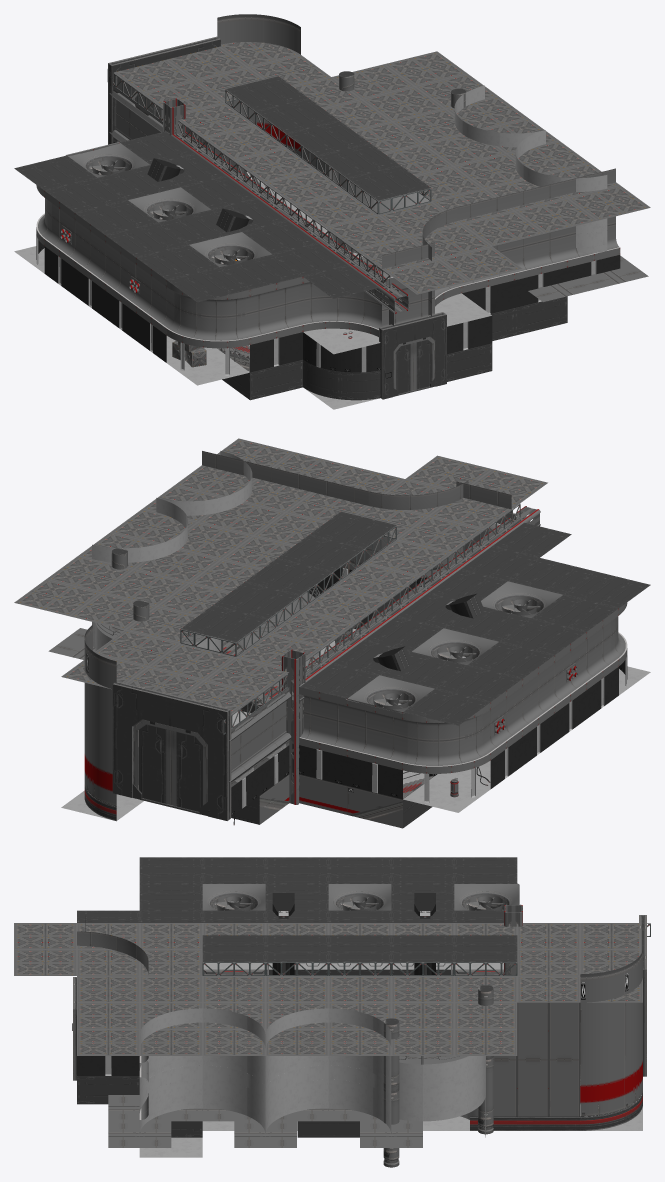
The model's file is demo-layout-fans.glb.
3 views of the same model, one above another, from view 1: azimuth 30°, elevation 25°; view 2: azimuth 150°, elevation 25°; view 3: azimuth 270°, elevation 25° (orthographic). The views are drawn at different scales.
Visible parts, largest first — view 1: Door_Frame_Square.001, ShortWall_Band2_Corner_Outer, TopPlastic_Corner_Round_Outer, TopPlastic_Corner_Round_Inner.002, ShortWall_DarkMetal2_Corner_Inner, Door_Frame_Square, TopAstra_Curve_Round_Outer, TopPlastic_Straight.012, TopPlastic_Straight.018, Platform_DarkPlates.004, Platform_DarkPlates.005, Platform_DarkPlates.007 (+105 smaller); view 2: Door_Frame_Square, ShortWall_Band2_Corner_Outer, TopPlastic_Corner_Round_Inner, Door_DarkMetal.001, Door_DarkMetal, TopPlastic_Straight.008, Platform_DarkPlates.007, Platform_X.003, Platform_DarkPlates.005, Platform_X.009, Platform_DarkPlates.023, Platform_X.031 (+106 smaller); view 3: ShortWall_Band2_Corner_Outer, ShortWall_MetalPlates_Straight.001, ShortWall_MetalPlates_Straight, ShortWall_WhitePlate2_Corner_Outer.025, ShortWall_WhitePlate2_Corner_Outer.018, ShortWall_WhitePlate2_Corner_Outer.019, Platform_X.030, ShortWall_WhitePlate2_Corner_Outer.024, Platform_X.024, ShortWall_WhitePlate2_Corner_Outer.008, Platform_DarkPlates.002, Platform_DarkPlates.003 (+95 smaller).
Boxes of the visible parts, x1,y1,x2,y2 form: Door_Frame_Square.001: (379,312,446,399); ShortWall_Band2_Corner_Outer: (217,14,300,156); TopPlastic_Corner_Round_Outer: (298,297,393,336); TopPlastic_Corner_Round_Inner.002: (166,306,249,348); ShortWall_DarkMetal2_Corner_Inner: (303,360,380,400); Door_Frame_Square: (108,36,220,146); TopAstra_Curve_Round_Outer: (303,332,380,372); TopPlastic_Straight.012: (245,301,302,344); TopPlastic_Straight.018: (510,237,567,280); Platform_DarkPlates.004: (75,200,157,235); Platform_DarkPlates.005: (106,222,188,257); Platform_DarkPlates.007: (167,267,249,302); Door_Frame_Square: (112,681,231,820); ShortWall_Band2_Corner_Outer: (84,624,116,806); TopPlastic_Corner_Round_Inner: (403,729,490,773); Door_DarkMetal.001: (139,724,171,804); Door_DarkMetal: (171,730,202,811); TopPlastic_Straight.008: (347,724,407,770); Platform_DarkPlates.007: (563,571,650,608); Platform_X.003: (149,643,235,680); Platform_DarkPlates.005: (499,618,586,655); Platform_X.009: (397,516,483,552); Platform_DarkPlates.023: (245,558,331,595); Platform_X.031: (14,579,100,616); ShortWall_Band2_Corner_Outer: (580,950,642,1116); ShortWall_MetalPlates_Straight.001: (517,1002,548,1116); ShortWall_MetalPlates_Straight: (548,1002,579,1116); ShortWall_WhitePlate2_Corner_Outer.025: (202,1079,265,1133); ShortWall_WhitePlate2_Corner_Outer.018: (265,1079,328,1133); ShortWall_WhitePlate2_Corner_Outer.019: (328,1079,391,1132); Platform_X.030: (77,1002,139,1029); ShortWall_WhitePlate2_Corner_Outer.024: (139,1079,202,1134); Platform_X.024: (454,1002,517,1029); ShortWall_WhitePlate2_Corner_Outer.008: (423,1056,485,1092); Platform_DarkPlates.002: (454,857,517,883); Platform_DarkPlates.003: (391,857,454,883).
Bounding box in the file's own units: 33 × 11.82 × 40.5.
Materials: 22 (18 with a texture image).
